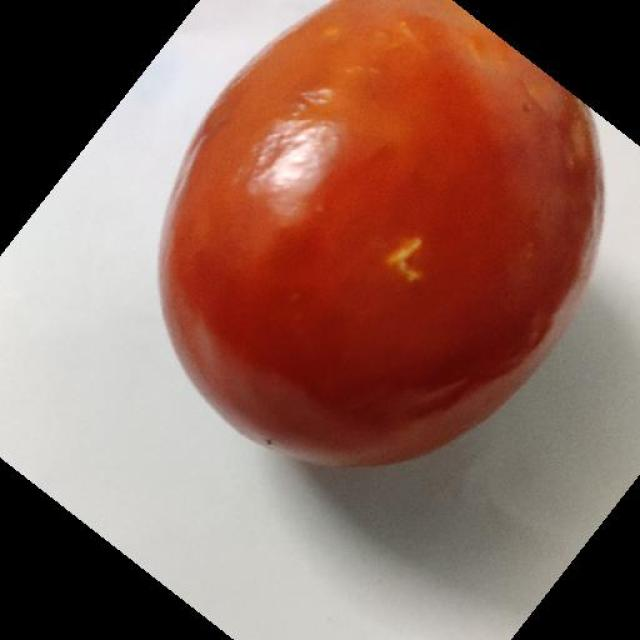Stale_tomato: (198, 0, 614, 439)
